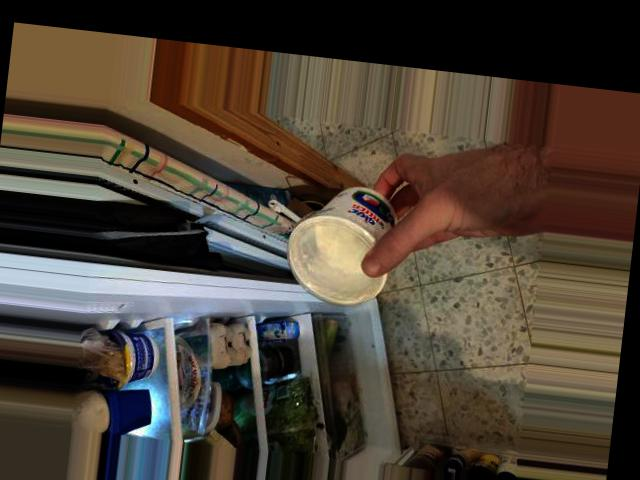cotage: (282, 174, 406, 304)
